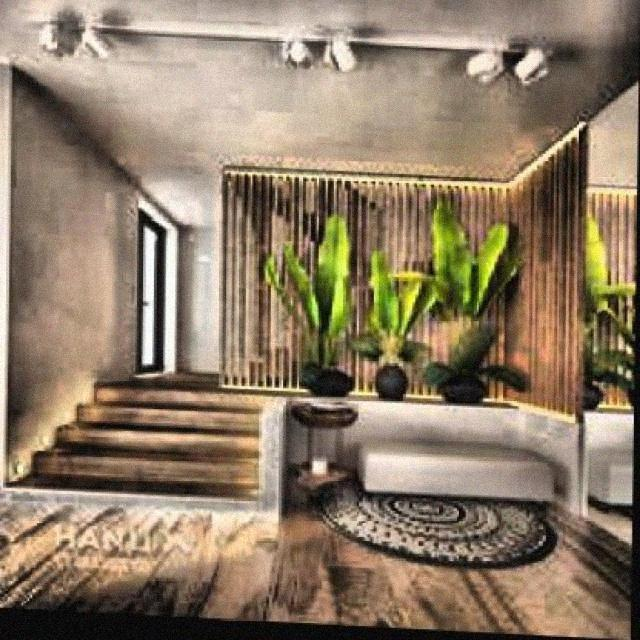stair: (15, 360, 297, 536)
